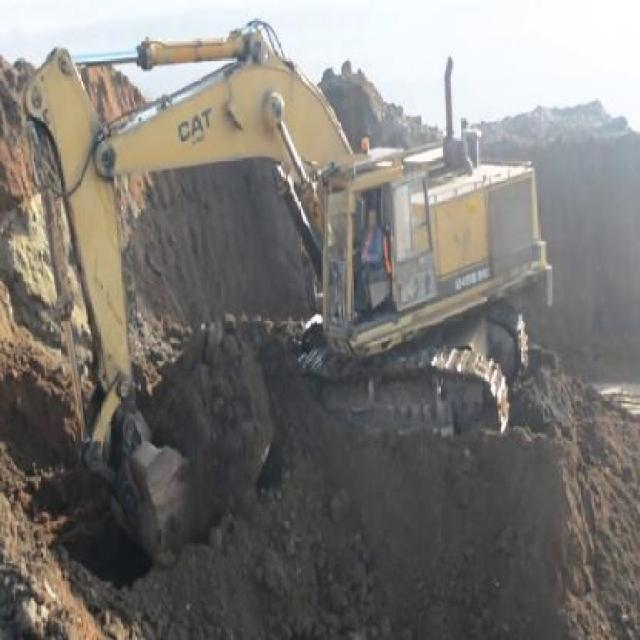excavator: (28, 10, 562, 558)
